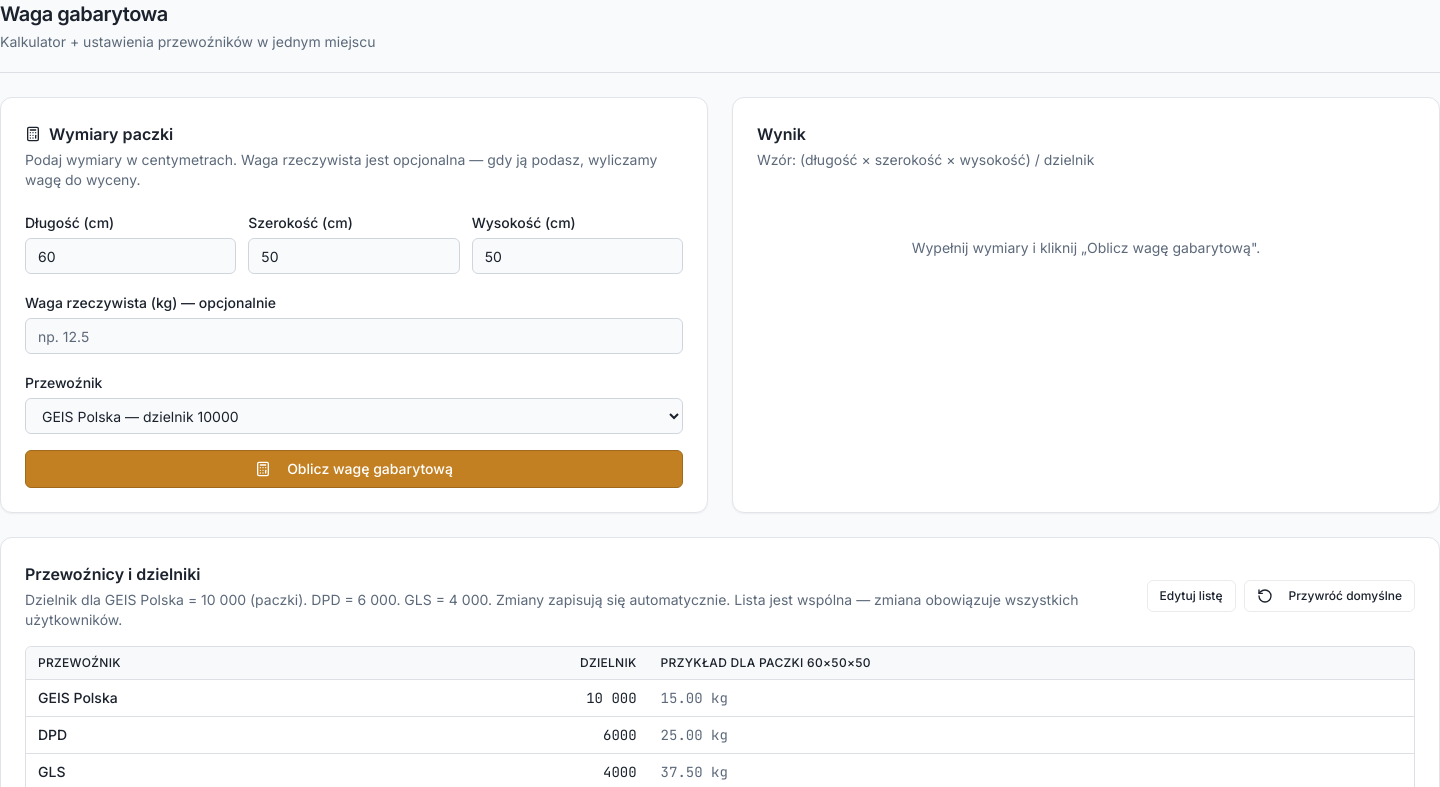
Test case: widok wagi gabarytowej — wspólna lista przewoźników › pusta nazwa i zły dzielnik wracają do poprzedniej wartości bez zapisu
Step 1. Click the button with test id "button-edycja-przewoznikow" → click(1191, 596), box [1146,580,1236,612]
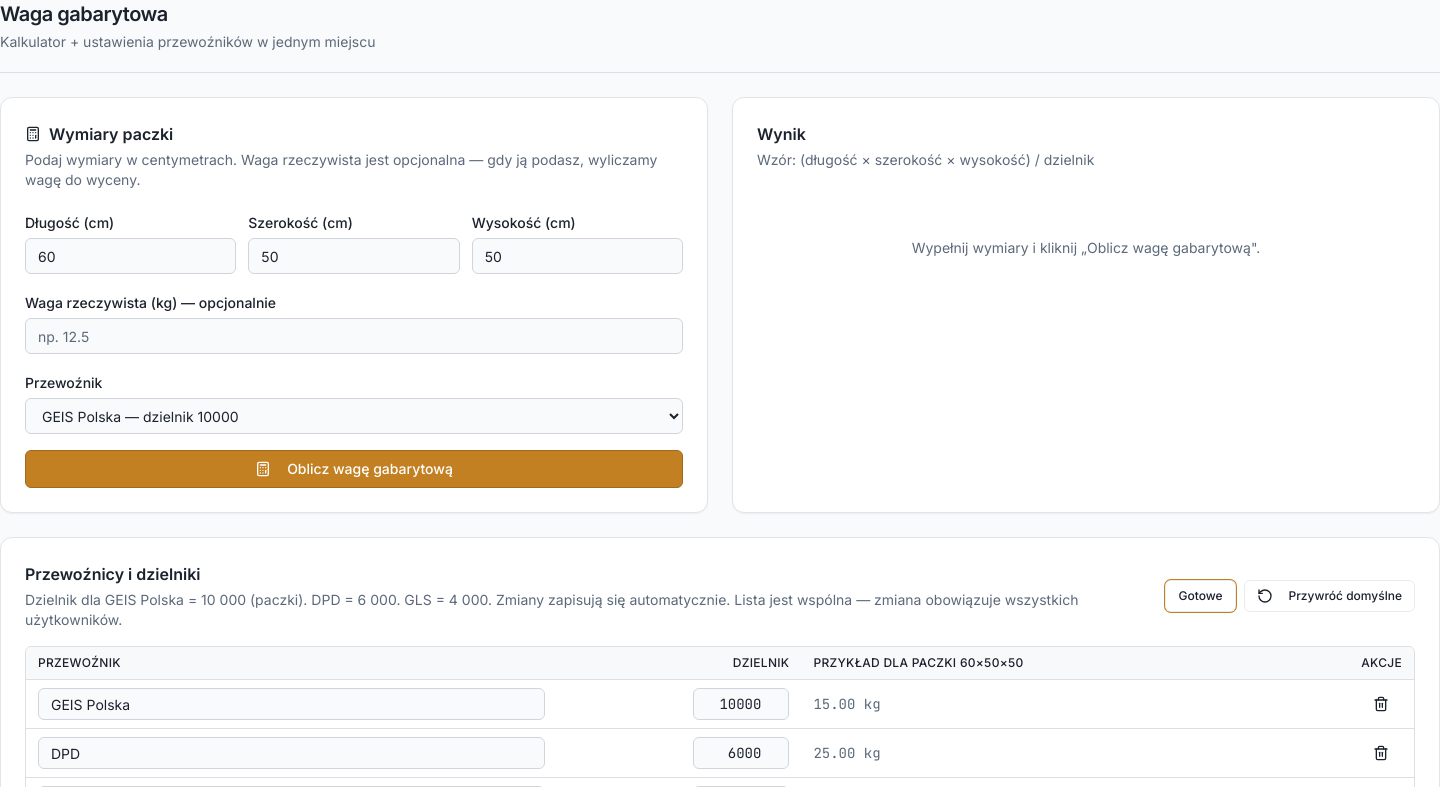
Step 2. Clear the field with test id "input-nazwa-dpd" → (291, 753), box [38,737,544,769]
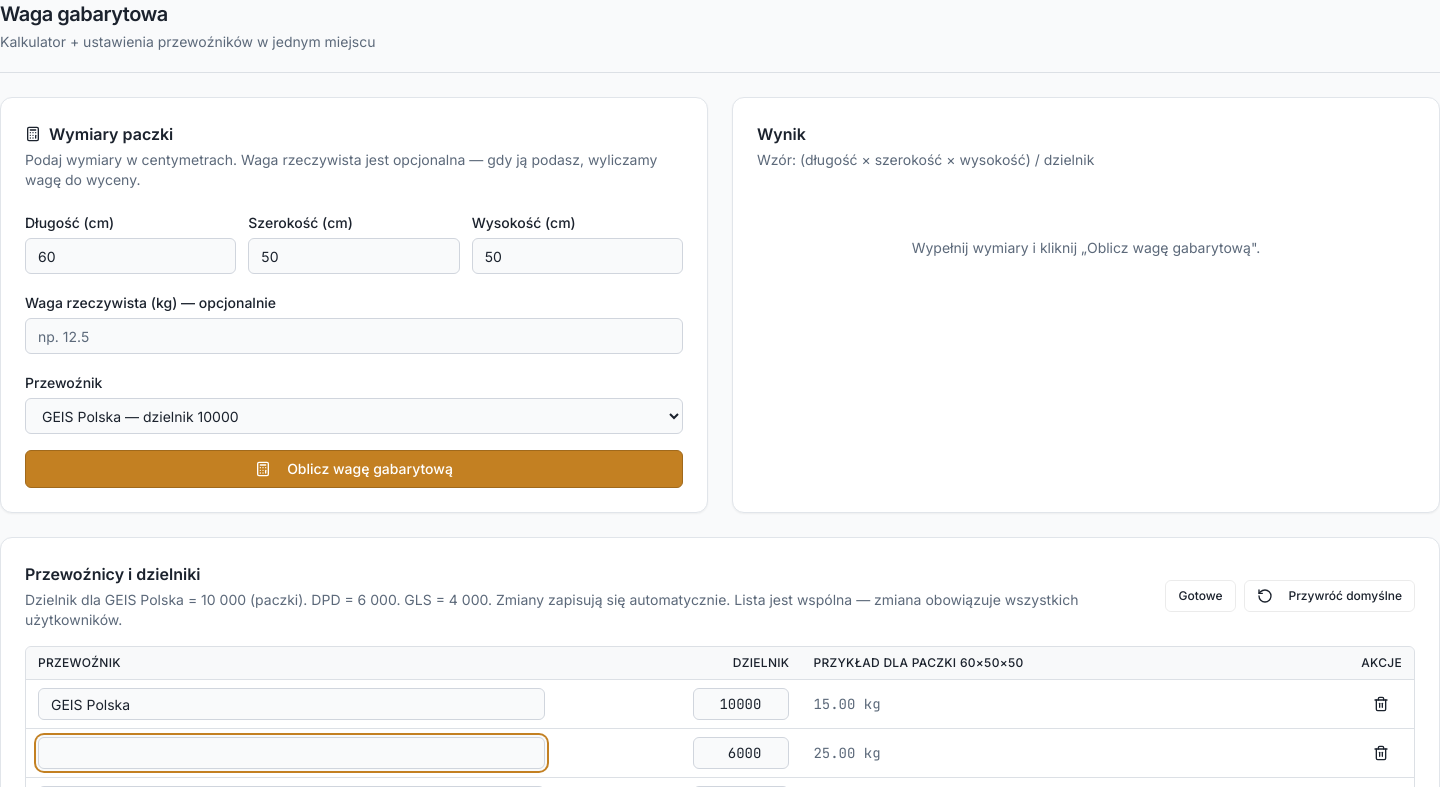
Step 3. Press Tab
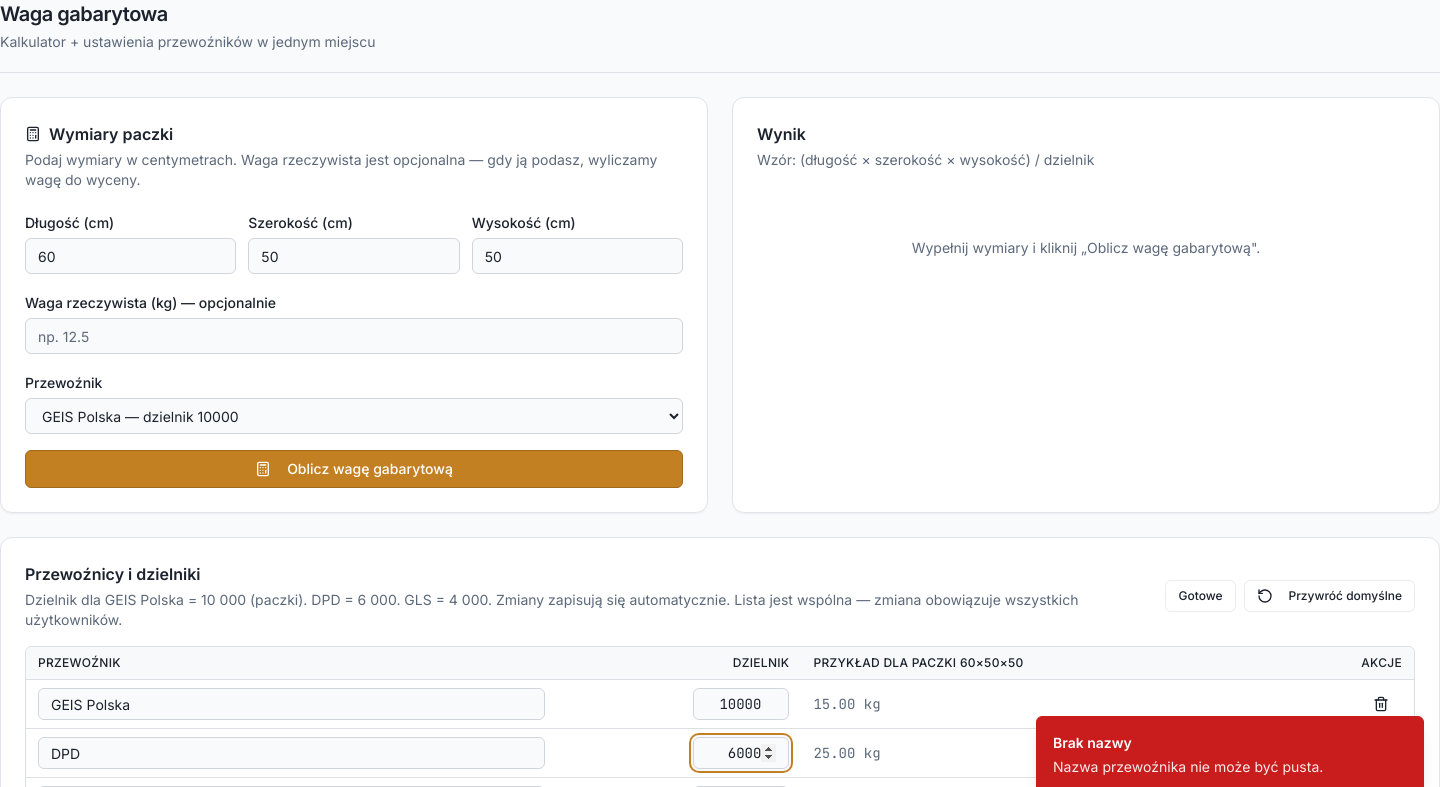
Result: the text "Brak nazwy" is shown at [1053,734,1132,751]
Result: the field with test id "input-nazwa-dpd" holds "DPD" at [38,737,544,769]
Step 4. Replace the text in the number field with test id "input-dzielnik-dpd" with "0" → (741, 753), box [693,737,789,769]
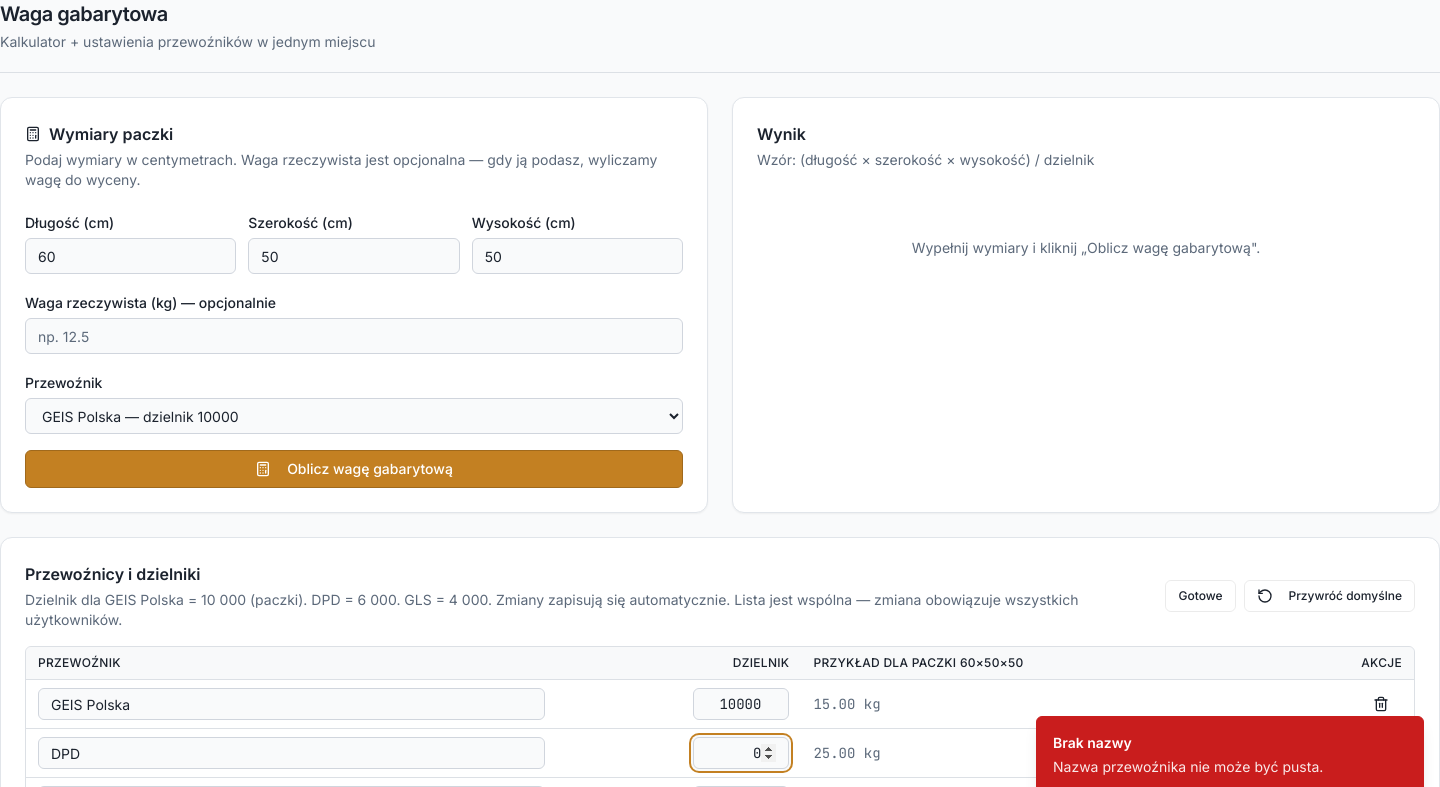
Step 5. Press Tab
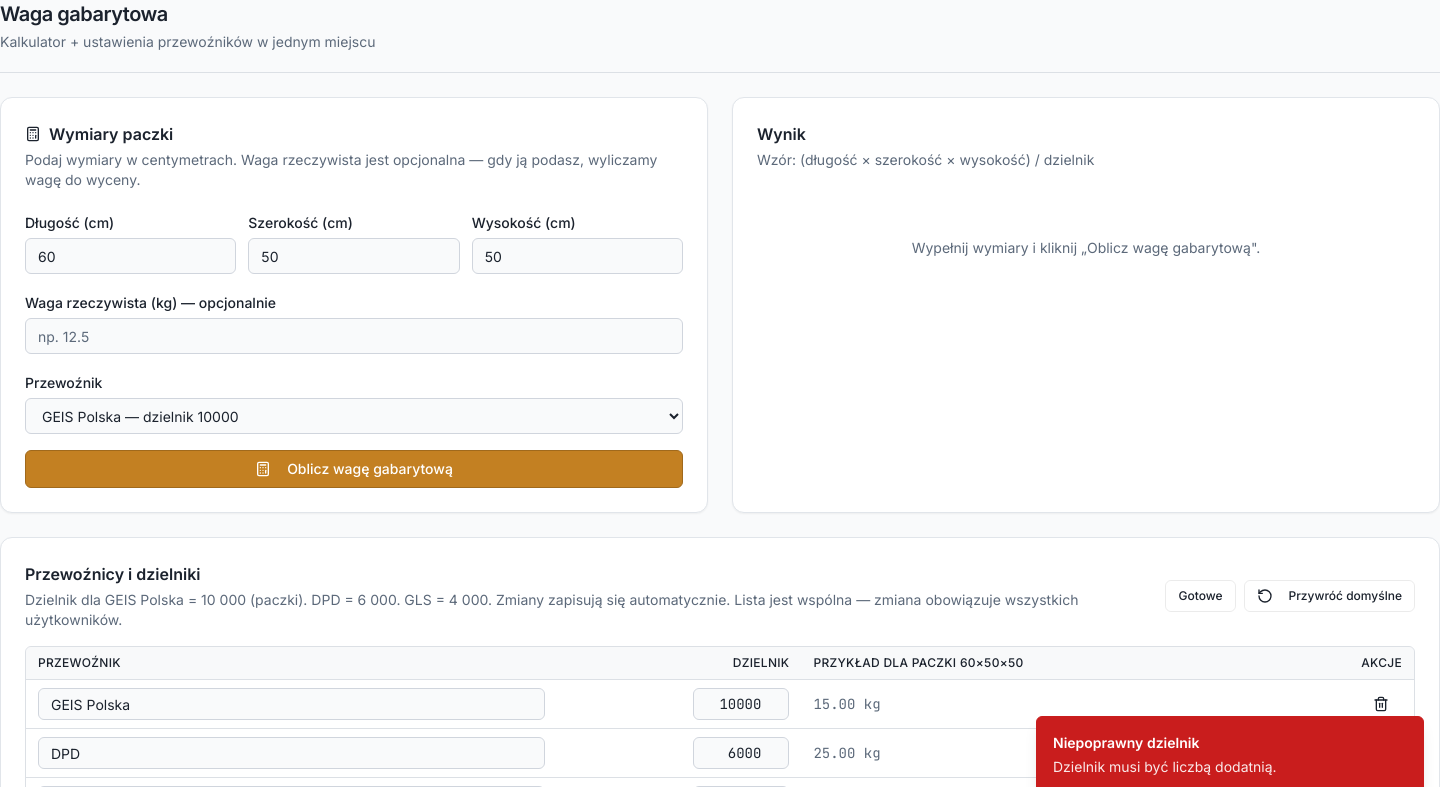
Result: the text "Niepoprawny dzielnik" is shown at [1053,734,1199,751]
Result: the number field with test id "input-dzielnik-dpd" holds "6000" at [693,737,789,769]
